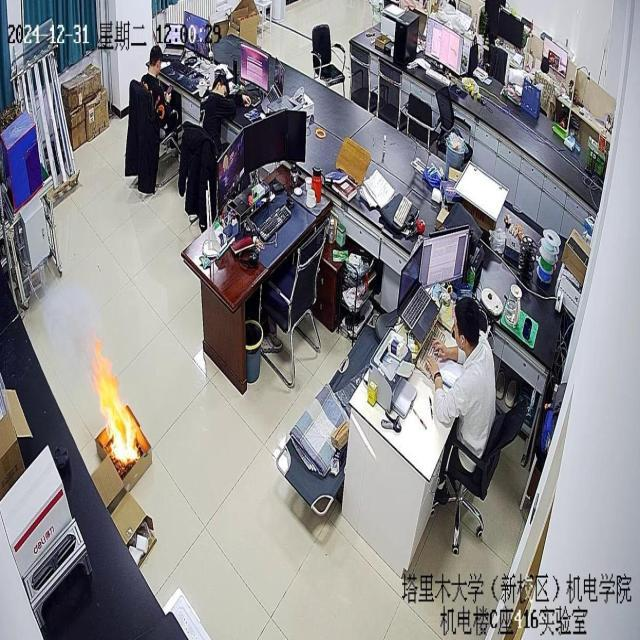smoke: (89, 328, 142, 469)
